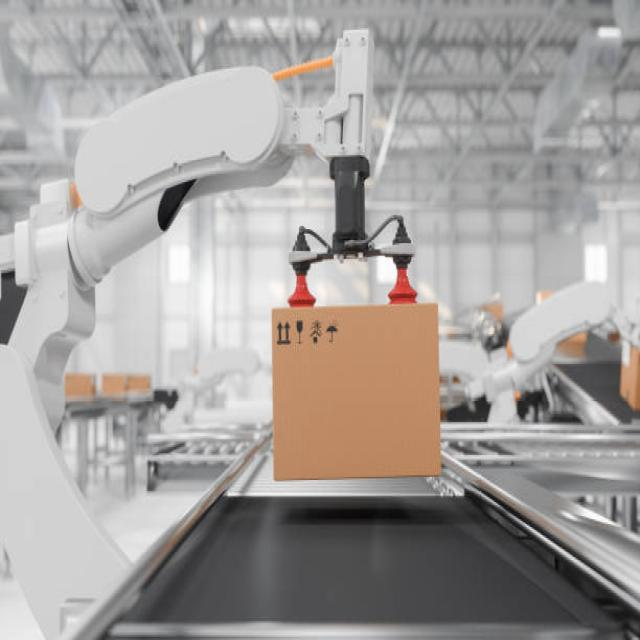Robotic-arm: (0, 23, 300, 640)
